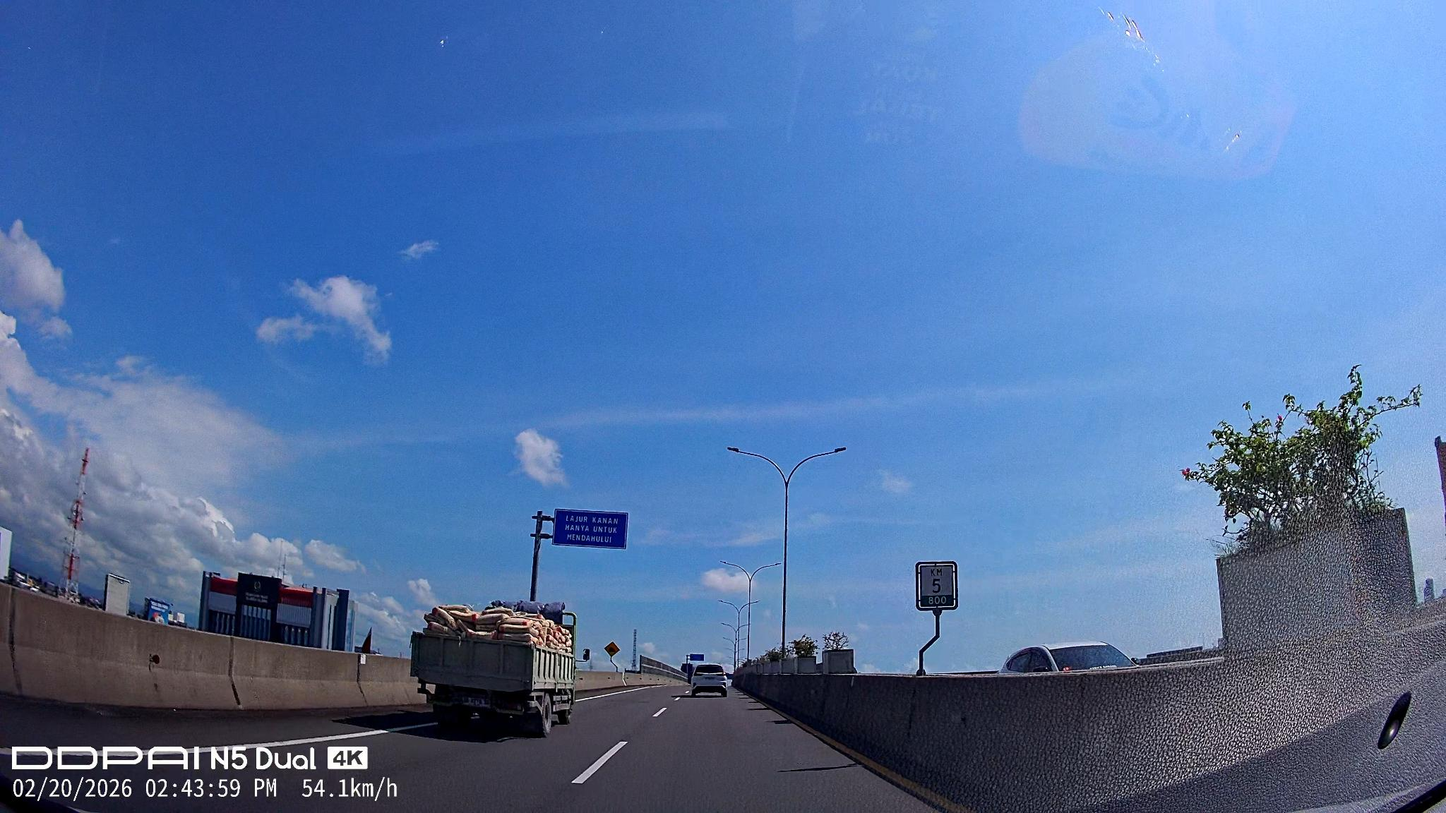rambu_teks: (553, 509, 628, 551)
